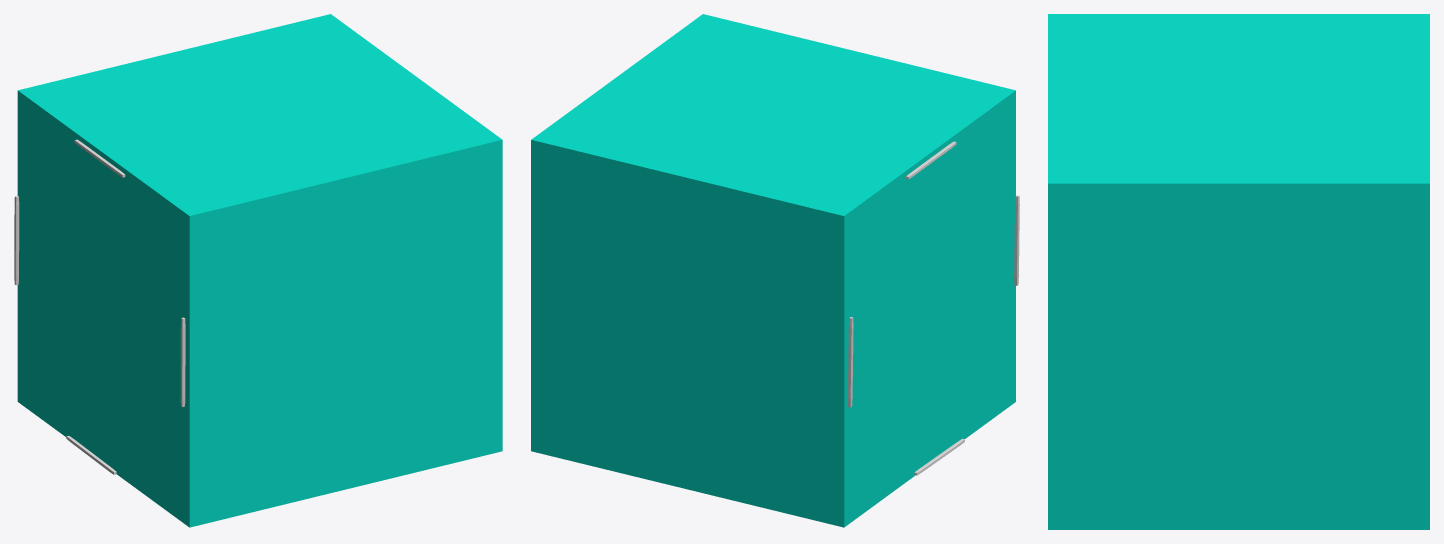
The model's file is rgbrambox.fbx.
The picture shows the model from 3 angles, left to right: view 1: azimuth 30°, elevation 25°; view 2: azimuth 150°, elevation 25°; view 3: azimuth 270°, elevation 25°; orthographic projection. The views are drawn at different scales.
Parts seen in each view (by area): view 1: Plane, Cube.002, Cube; view 2: Plane, Cube.002, Cube; view 3: Plane.
Boxes of the visible parts, x1,y1,x2,y2 form: Plane: (17,14,502,527); Cube.002: (14,195,185,406); Cube: (66,139,125,474); Plane: (531,14,1015,527); Cube.002: (847,195,1019,407); Cube: (906,141,964,475); Plane: (1048,14,1429,529).
Bounding box in the file's own units: 219 × 201 × 200.
